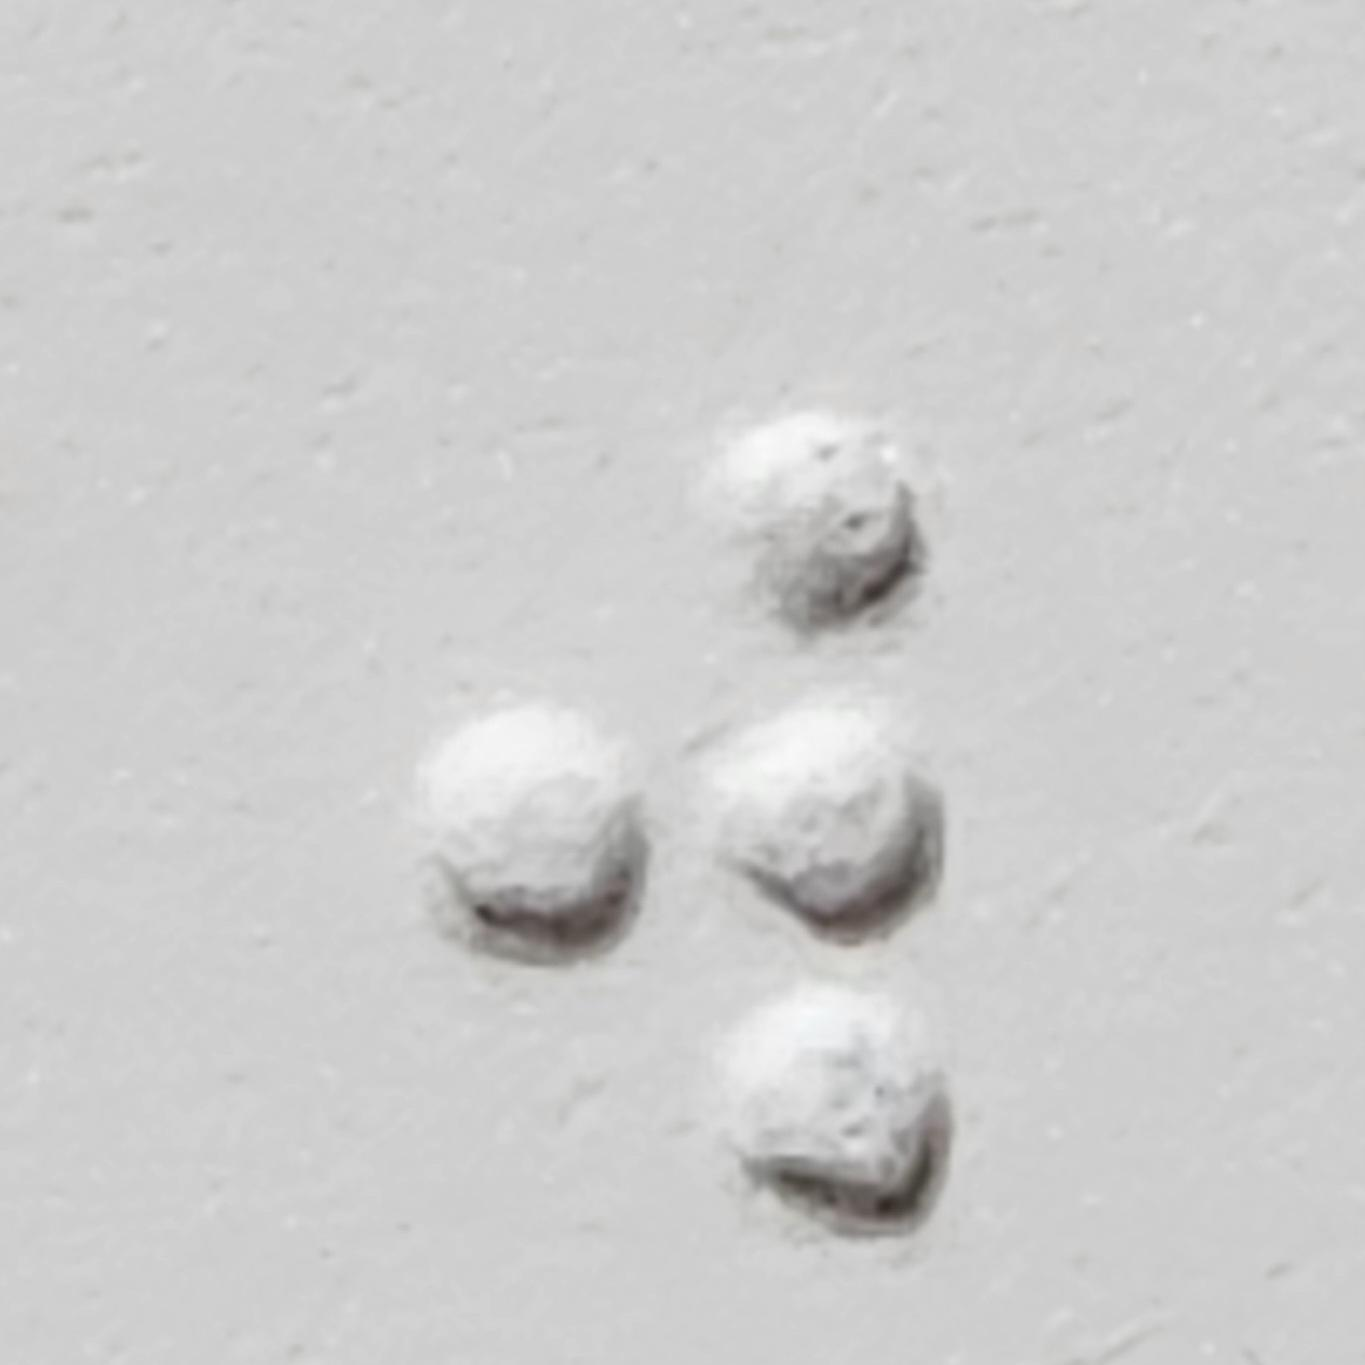letter_w: (411, 404, 951, 1245)
